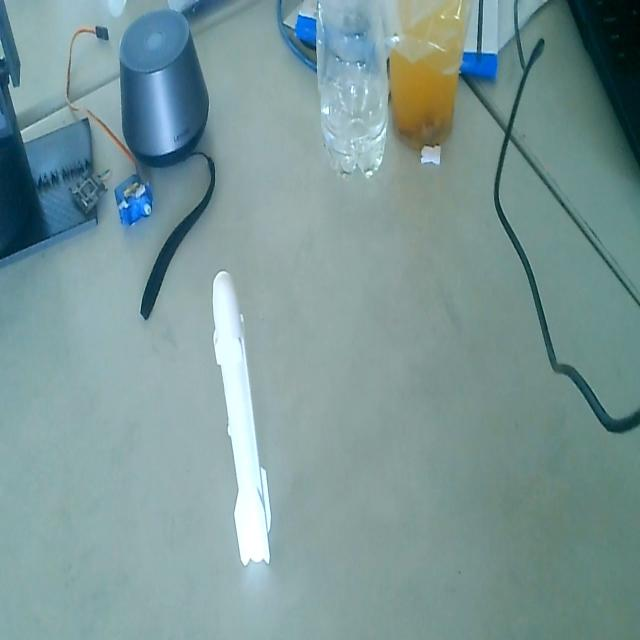Rocket: (210, 266, 272, 568)
